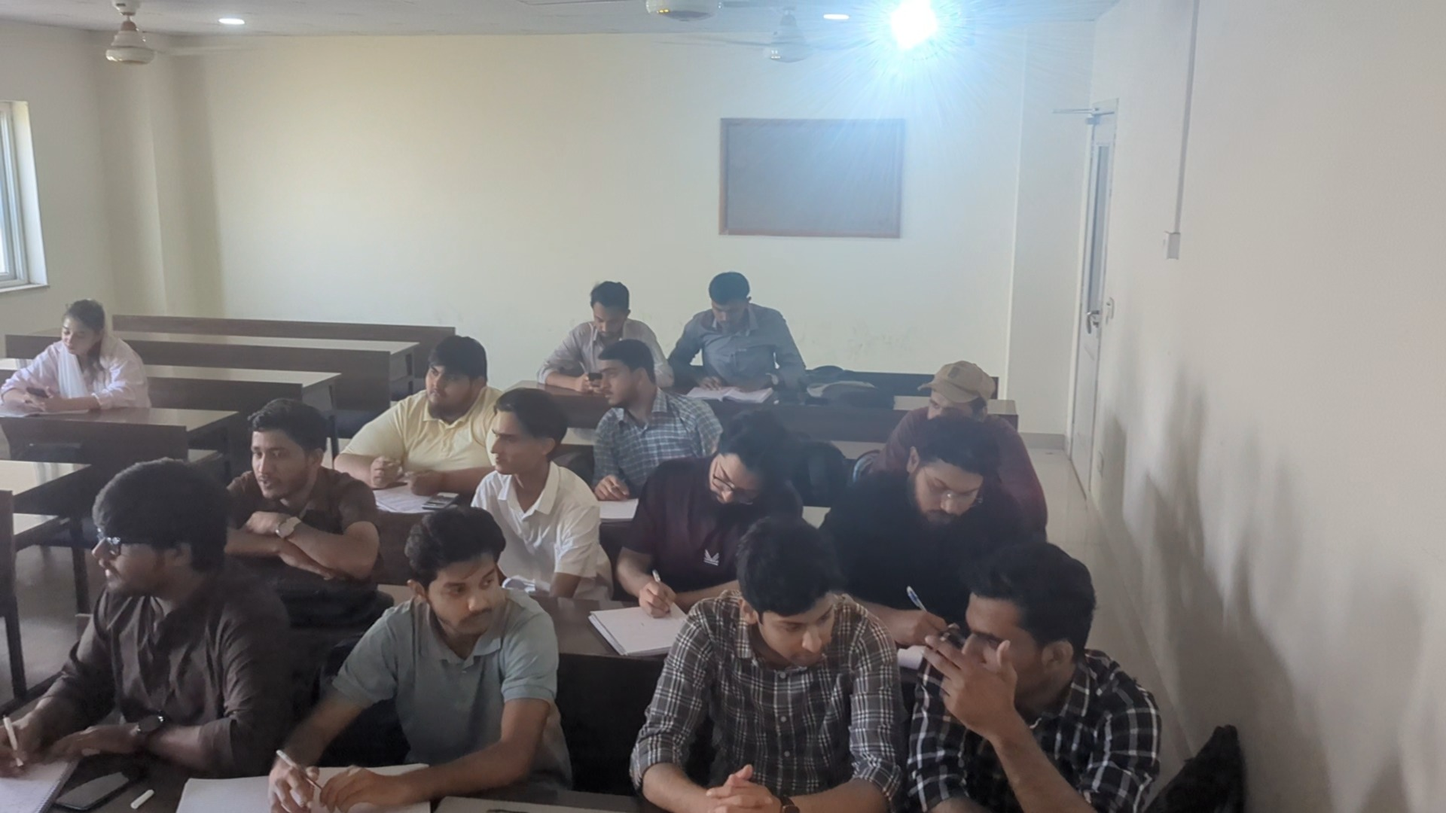handrise: (899, 542, 1149, 811)
look_forward: (451, 389, 616, 589), (215, 401, 384, 581), (336, 334, 511, 496), (580, 333, 707, 508), (895, 358, 1006, 423)
read: (628, 518, 897, 813), (667, 269, 807, 406)
turn_head: (326, 500, 566, 789)
using_device: (3, 299, 156, 424), (519, 284, 666, 387)
write: (2, 447, 279, 785), (817, 431, 981, 660), (620, 412, 764, 628)
